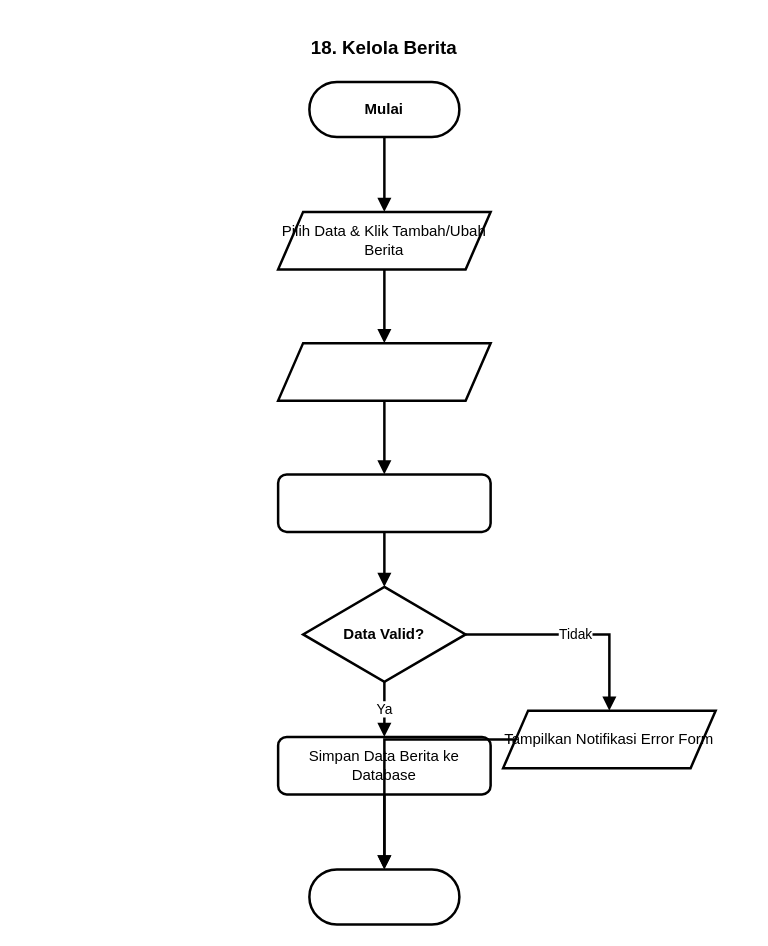
This 768x946 diagram has some shape labels left out. The centre of each missing label's shape, as x and y in pixels:
"Isi Formulir Data Berita" goes at point 383,371.
"Selesai" goes at point 384,896.
"Validasi Kelayakan Data Berita" goes at point 383,502.
